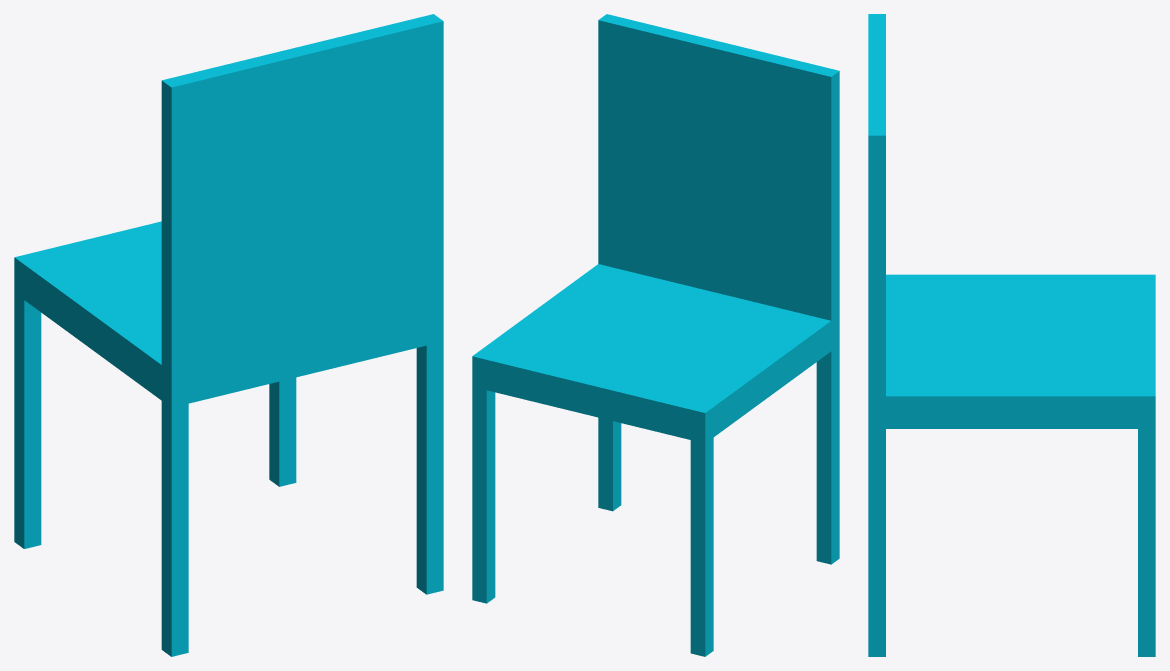
File: Chair.glb
3 views of the same model, side by side, from view 1: azimuth 30°, elevation 25°; view 2: azimuth 150°, elevation 25°; view 3: azimuth 270°, elevation 25° (orthographic). The views are drawn at different scales.
Visible parts, largest first — view 1: Chair Back, Chair Seat, Chair Leg 3, Chair Leg 2, Chair Leg 4, Chair Leg 1; view 2: Chair Back, Chair Seat, Chair Leg 4, Chair Leg 1, Chair Leg 3, Chair Leg 2; view 3: Chair Seat, Chair Back, Chair Leg 1, Chair Leg 2.
Boxes of the visible parts, x1,y1,x2,y2 form: Chair Back: (161, 14, 443, 372); Chair Seat: (14, 221, 443, 407); Chair Leg 3: (161, 365, 188, 656); Chair Leg 2: (416, 306, 443, 594); Chair Leg 4: (14, 253, 41, 548); Chair Leg 1: (269, 377, 296, 486); Chair Back: (598, 14, 839, 320); Chair Seat: (472, 264, 839, 443); Chair Leg 4: (690, 403, 713, 656); Chair Leg 1: (472, 350, 495, 603); Chair Leg 3: (816, 315, 839, 564); Chair Leg 2: (598, 417, 621, 511); Chair Seat: (868, 274, 1155, 428); Chair Back: (868, 14, 885, 396); Chair Leg 1: (1138, 388, 1155, 656); Chair Leg 2: (868, 396, 885, 656).
Bounding box in the file's own units: 50.8 × 102 × 50.8.
